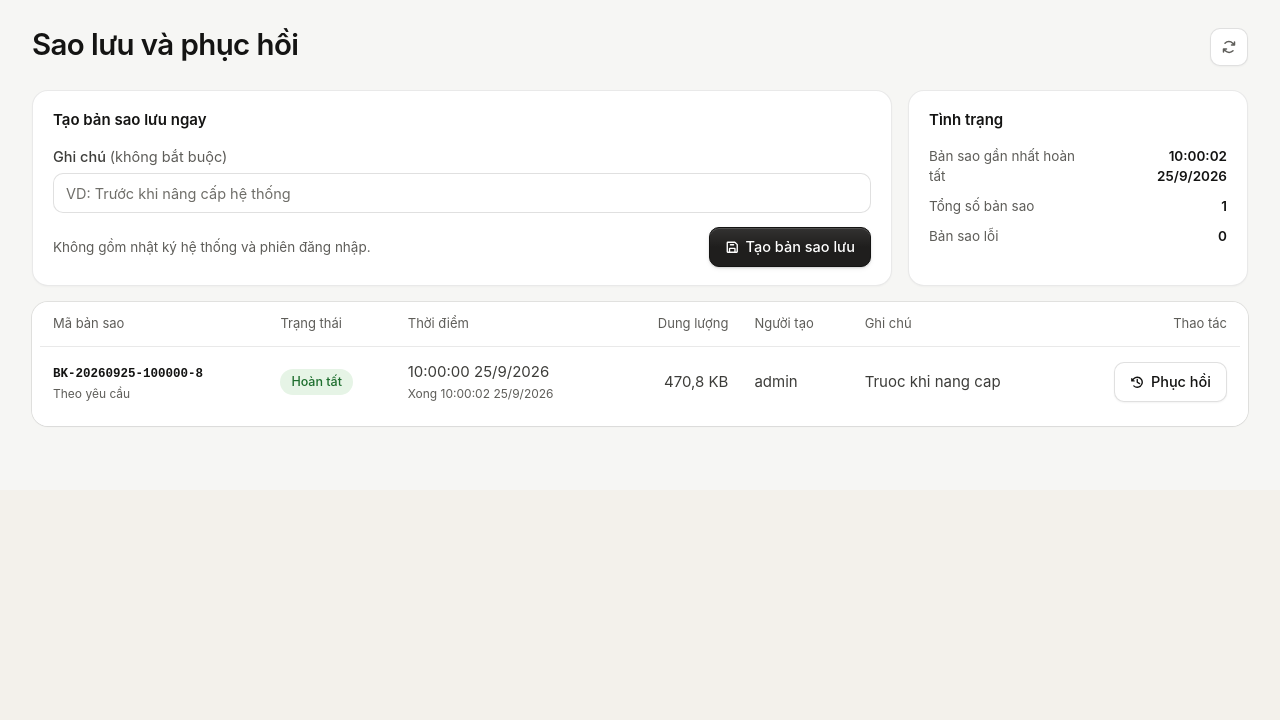
it: BackupRestorePage (NCL-15-CN-003) › đang có sao lưu/phục hồi khác (400 INVALID_STATE) → báo thử lại sau
expect the row with test id "backup-row-8" is shown: met, box [40,346,1240,418]
Click the button with test id "backup-create" showing "Tạo bản sao lưu".
click(790, 247)  # box [709,227,871,267]
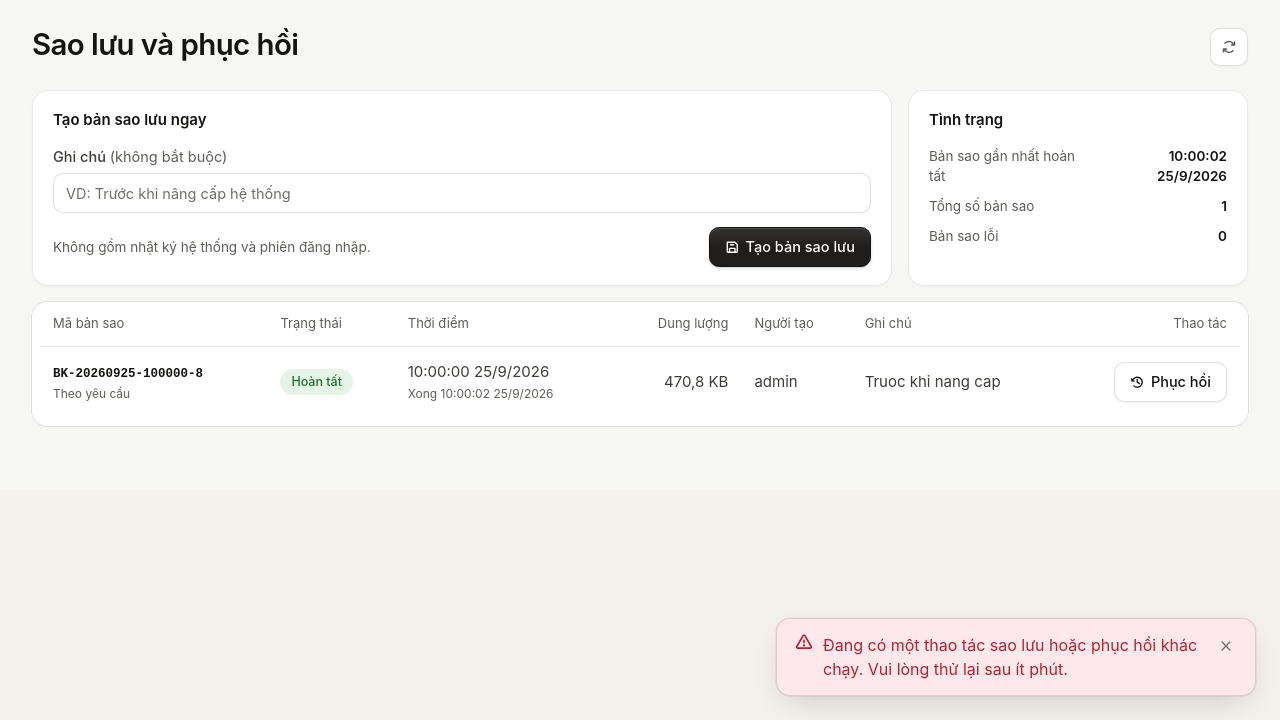
expect the text "Vui lòng thử lại sau ít phút" is shown: met, box [823,635,1197,679]
